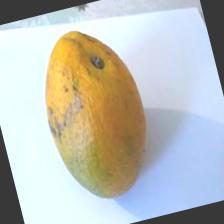Orange Rotten: (22, 10, 178, 224)
